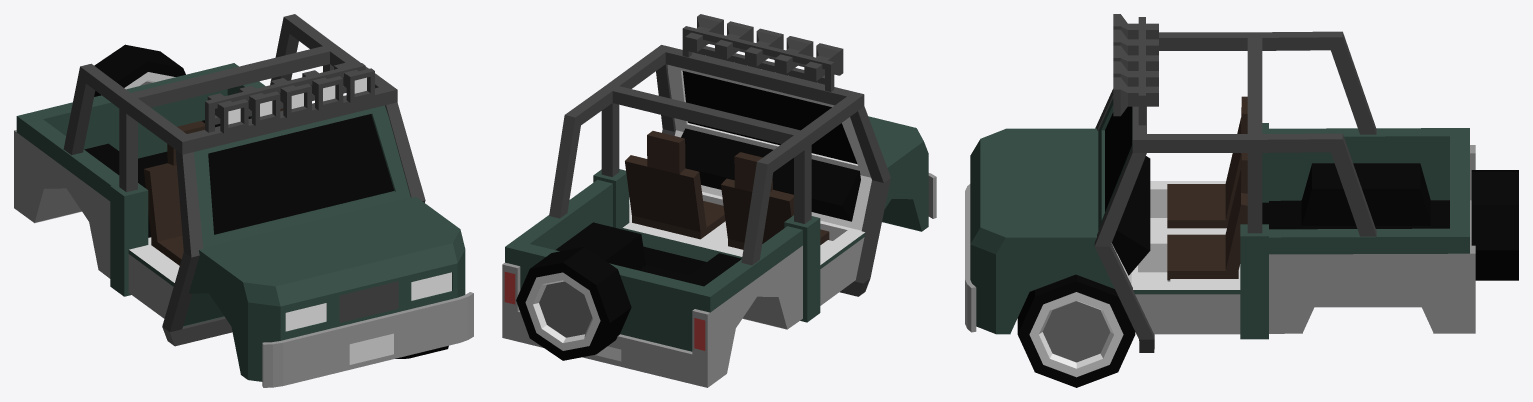
Rendered from Jeep.fbx.
The picture shows the model from 3 angles, left to right: view 1: azimuth 30°, elevation 25°; view 2: azimuth 150°, elevation 25°; view 3: azimuth 270°, elevation 25°; orthographic projection. The views are drawn at different scales.
Parts seen in each view (by area): view 1: Jeep, Light Rack, Back Wheel; view 2: Jeep, Back Wheel, Light Rack; view 3: Jeep, Tire, Back Wheel, Light Rack.
Part boxes in pixels (x1,y1,x2,y2): Jeep: (14,14,473,387); Light Rack: (205,62,374,133); Back Wheel: (94,44,185,96); Jeep: (502,45,936,387); Back Wheel: (516,246,631,360); Light Rack: (682,14,843,91); Jeep: (965,31,1475,352); Tire: (1017,274,1135,387); Back Wheel: (1471,170,1518,280); Light Rack: (1113,14,1158,125).
Bounding box in the file's own units: 297 × 332 × 592.
